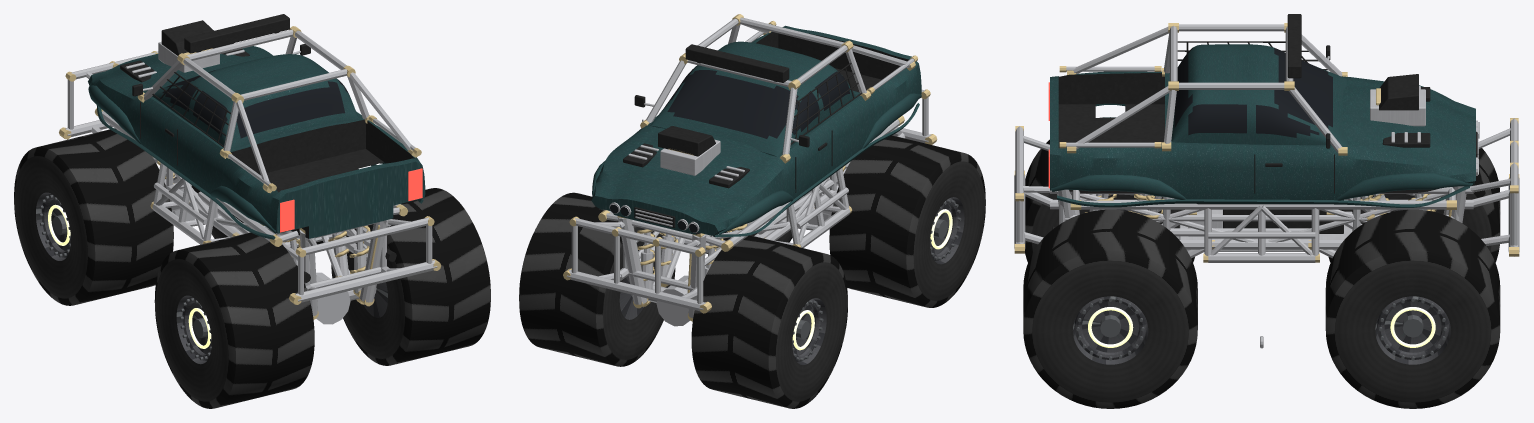
The model's file is monster_v5.glb.
3 renders of one model, left to right at view 1: azimuth 30°, elevation 25°; view 2: azimuth 150°, elevation 25°; view 3: azimuth 270°, elevation 25°, orthographic. The views are drawn at different scales.
Visible parts, largest first — view 1: chassis, wheel_2, wheel_0, wheel_3, fins; view 2: chassis, wheel_0, wheel_2, wheel_1, fins; view 3: chassis, wheel_1, wheel_3, wheel_0, wheel_2, fins.
Boxes of the visible parts, box(x1,y1,x2,y2) form: chassis: box(59, 20, 441, 324); wheel_2: box(154, 232, 314, 408); wheel_0: box(14, 128, 173, 305); wheel_3: box(331, 188, 490, 365); fins: box(184, 14, 289, 53); chassis: box(563, 14, 937, 326); wheel_0: box(691, 235, 847, 408); wheel_2: box(829, 135, 985, 307); wheel_1: box(519, 192, 675, 366); fins: box(685, 44, 789, 82); chassis: box(1014, 23, 1519, 262); wheel_1: box(1325, 209, 1500, 408); wheel_3: box(1023, 209, 1197, 408); wheel_0: box(1328, 148, 1500, 262); wheel_2: box(1025, 117, 1194, 262); fins: box(1260, 14, 1301, 348).
Bounding box in the file's own units: 3.79 × 3.93 × 5.85.
23 materials, 14 textured.
